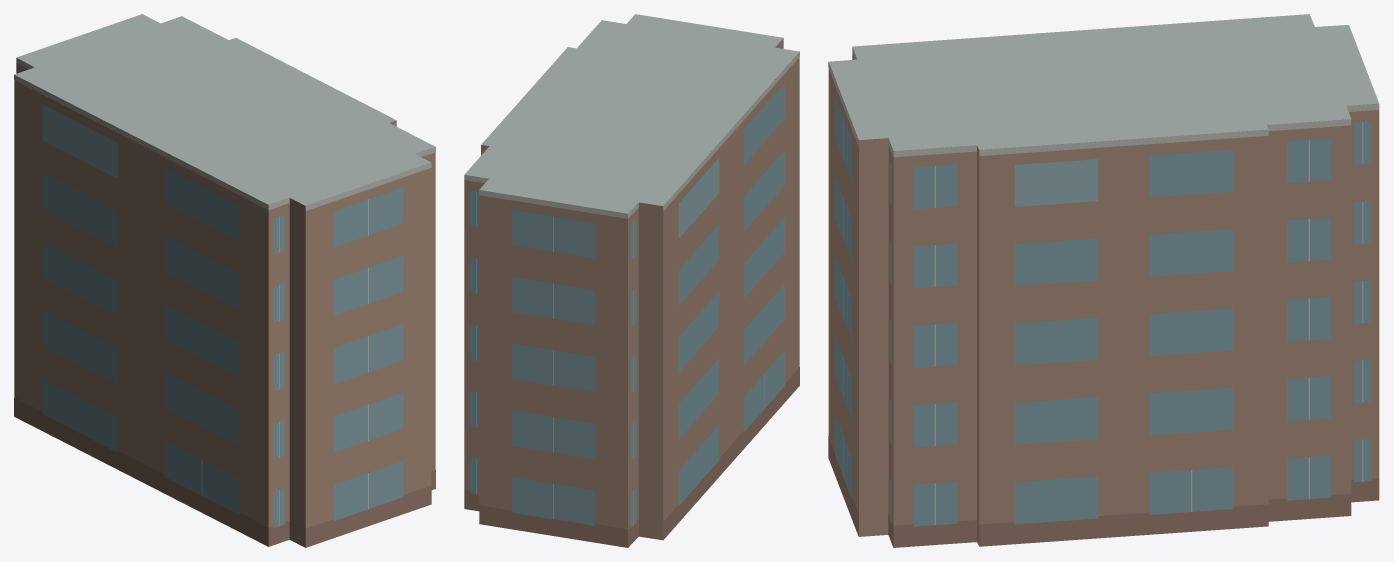
Rendered from survey-upis-32924632.glb.
3 views of the same model, side by side, from view 1: azimuth 30°, elevation 25°; view 2: azimuth 150°, elevation 25°; view 3: azimuth 270°, elevation 25° (orthographic). The views are drawn at different scales.
Visible parts, largest first — view 1: survey-upis-32924632.tmp; view 2: survey-upis-32924632.tmp; view 3: survey-upis-32924632.tmp.
Part boxes in pixels (x1,y1,x2,y2): survey-upis-32924632.tmp: (14, 14, 435, 547); survey-upis-32924632.tmp: (464, 14, 799, 547); survey-upis-32924632.tmp: (828, 14, 1379, 547).
Bounding box in the file's own units: 11.5 × 15.5 × 19.51.
